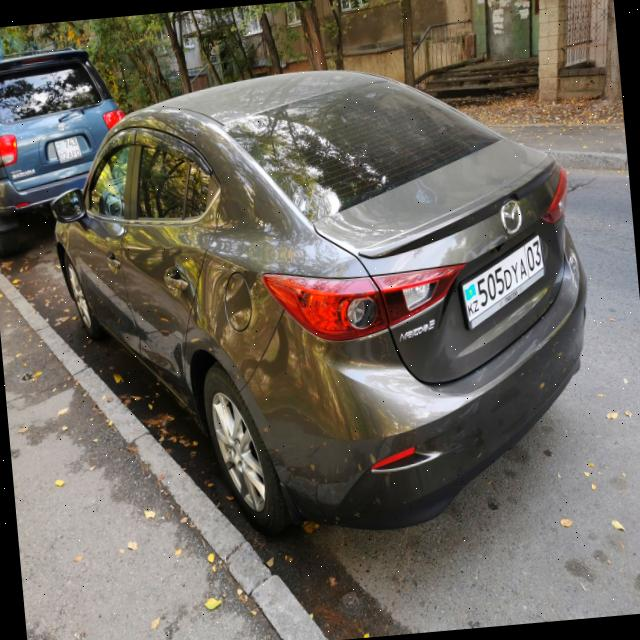License-plate: (453, 232, 550, 327)
